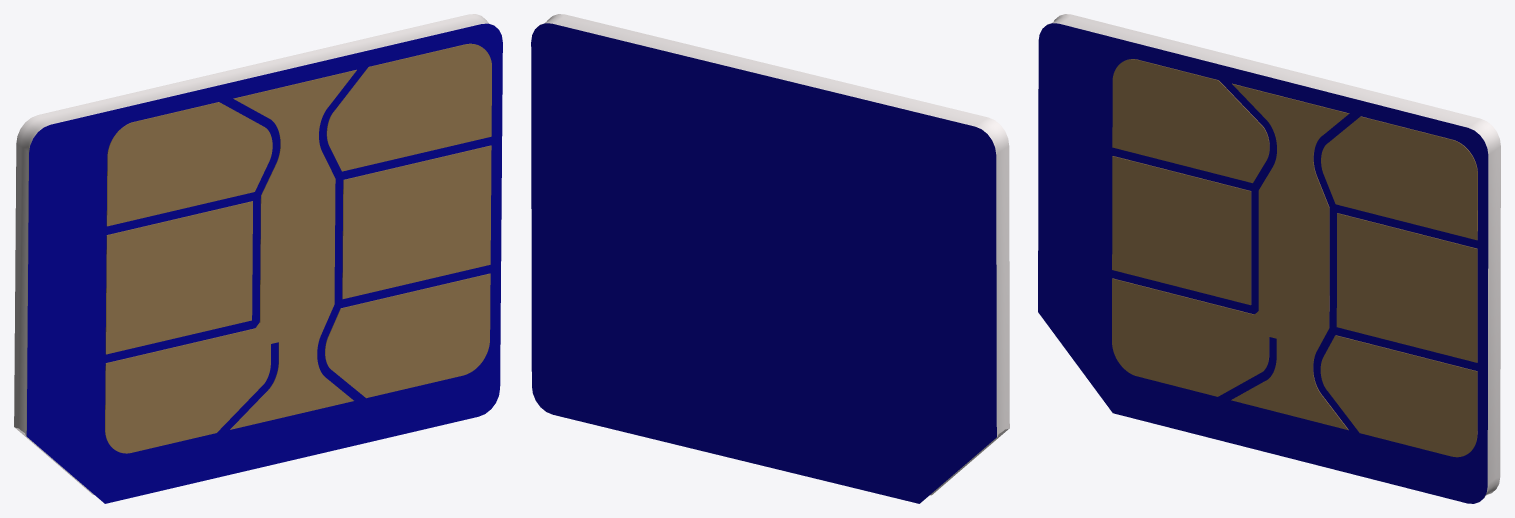
The model's file is sim.glb.
3 renders of one model, left to right at view 1: azimuth 30°, elevation 25°; view 2: azimuth 150°, elevation 25°; view 3: azimuth 330°, elevation 25°, orthographic. The views are drawn at different scales.
Visible parts, largest first — view 1: contacte-material, sim-material, rama-material; view 2: sim-material, rama-material; view 3: contacte-material, sim-material, rama-material.
Part boxes in pixels (bbox=[...]): contacte-material: bbox=[105, 43, 491, 453]; sim-material: bbox=[26, 23, 502, 503]; rama-material: bbox=[14, 14, 493, 501]; sim-material: bbox=[531, 23, 996, 503]; rama-material: bbox=[540, 14, 1009, 503]; contacte-material: bbox=[1112, 59, 1477, 457]; sim-material: bbox=[1038, 23, 1488, 503]; rama-material: bbox=[1048, 14, 1500, 497].
Bounding box in the file's own units: 1.23 × 0.9862 × 0.0742.
Materials: 3 (1 with a texture image).
